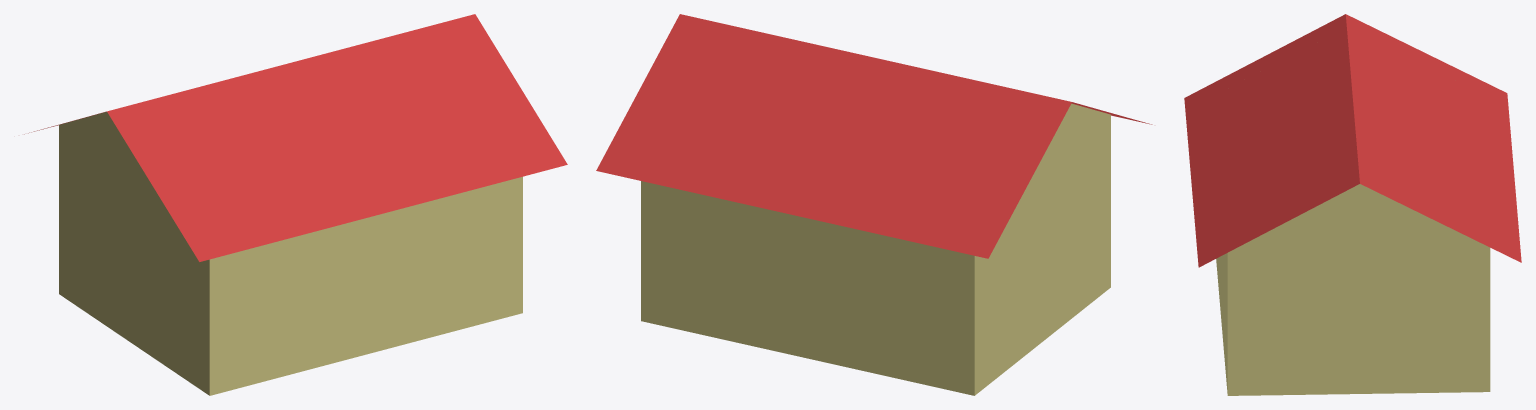
The picture shows the model from 3 angles, left to right: view 1: azimuth 30°, elevation 25°; view 2: azimuth 150°, elevation 25°; view 3: azimuth 270°, elevation 25°; orthographic projection. The views are drawn at different scales.
Size of the model in its own units: 20.56 by 16.78 by 12.24.
